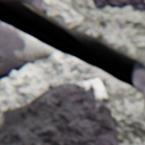brick: (0, 79, 119, 144), (93, 0, 144, 11), (135, 69, 144, 98)
broken_brick: (0, 21, 56, 80), (2, 0, 48, 15)
crack: (0, 0, 144, 88)
